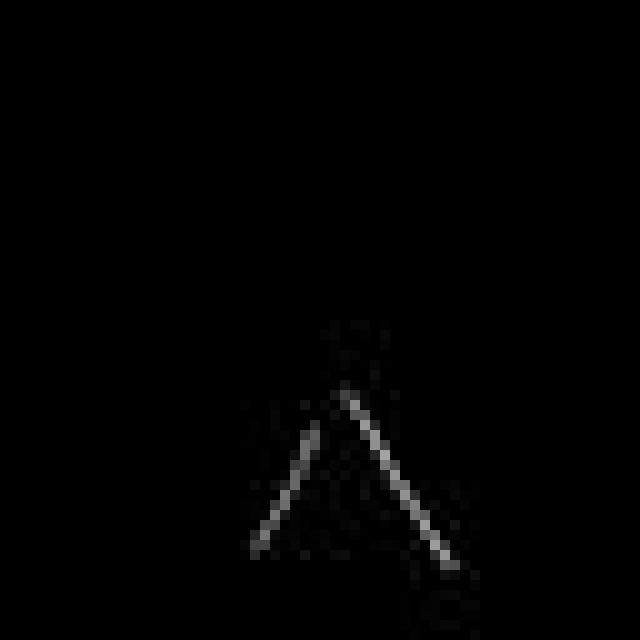8 -eight-: (232, 384, 472, 586)
